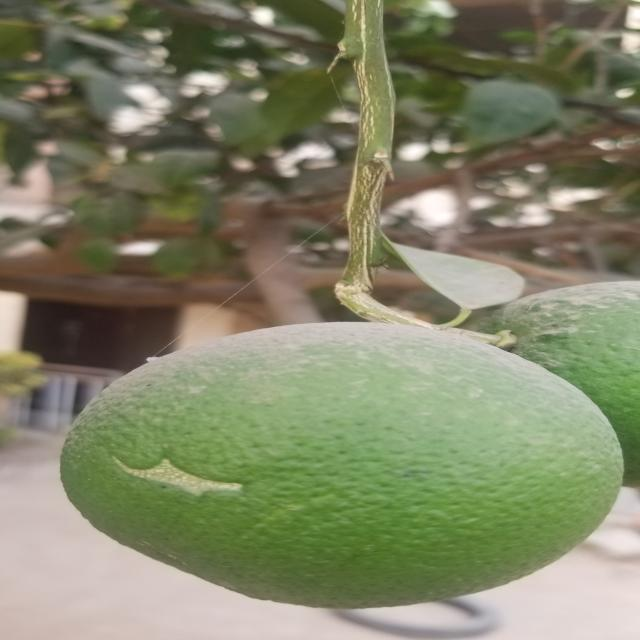Unripe: (72, 324, 617, 602), (506, 281, 637, 476)
